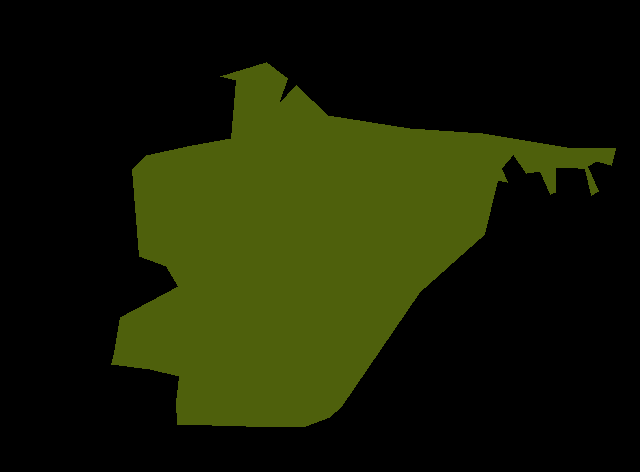Train: (111, 62, 615, 426)
